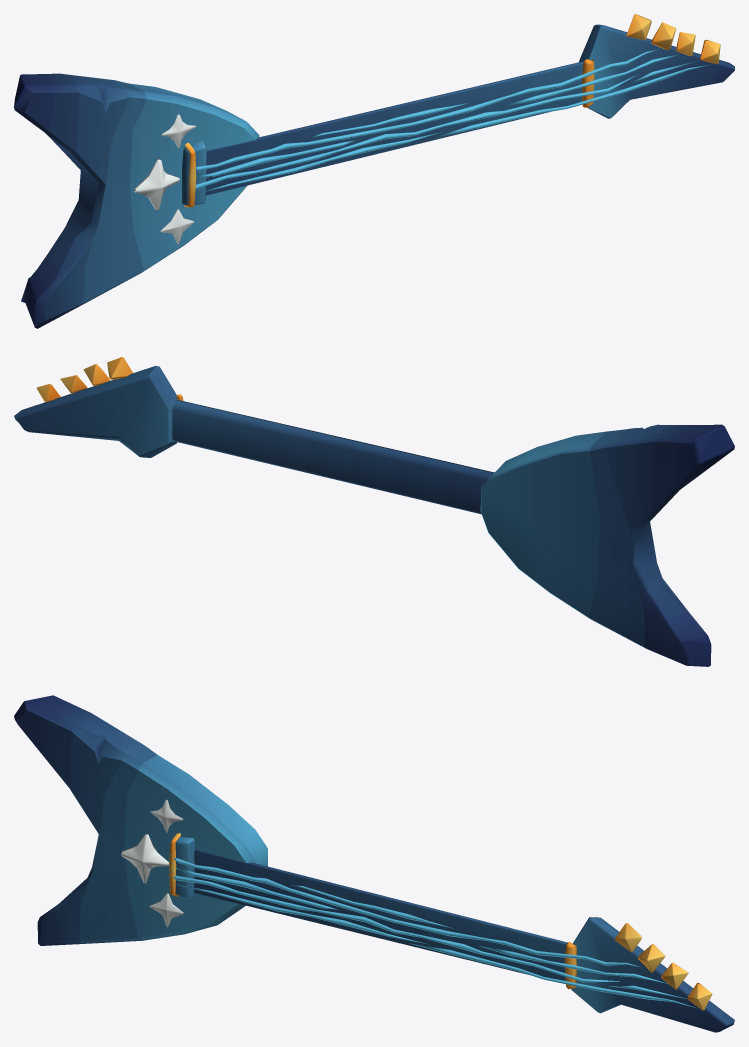
File: CharSkyKid_Prop_AP14Guitar_02.glb
3 renders of one model, top to bottom at view 1: azimuth 30°, elevation 25°; view 2: azimuth 150°, elevation 25°; view 3: azimuth 330°, elevation 25°, orthographic.
Parts seen in each view (by area): view 1: CharSkyKid_Prop_AP14Guitar_02; view 2: CharSkyKid_Prop_AP14Guitar_02; view 3: CharSkyKid_Prop_AP14Guitar_02.
Boxes of the visible parts, left/top/right/bottom form: CharSkyKid_Prop_AP14Guitar_02: left=14, top=14, right=734, bottom=328; CharSkyKid_Prop_AP14Guitar_02: left=14, top=357, right=734, bottom=666; CharSkyKid_Prop_AP14Guitar_02: left=14, top=695, right=734, bottom=1032.
Bounding box in the file's own units: 10.62 × 3.47 × 0.7533.
Materials: 1 (1 with a texture image).
